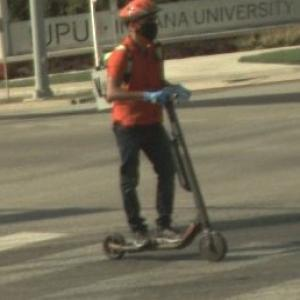helmet: (119, 1, 161, 47)
human: (103, 2, 180, 241)
kickboard: (98, 230, 229, 262)
